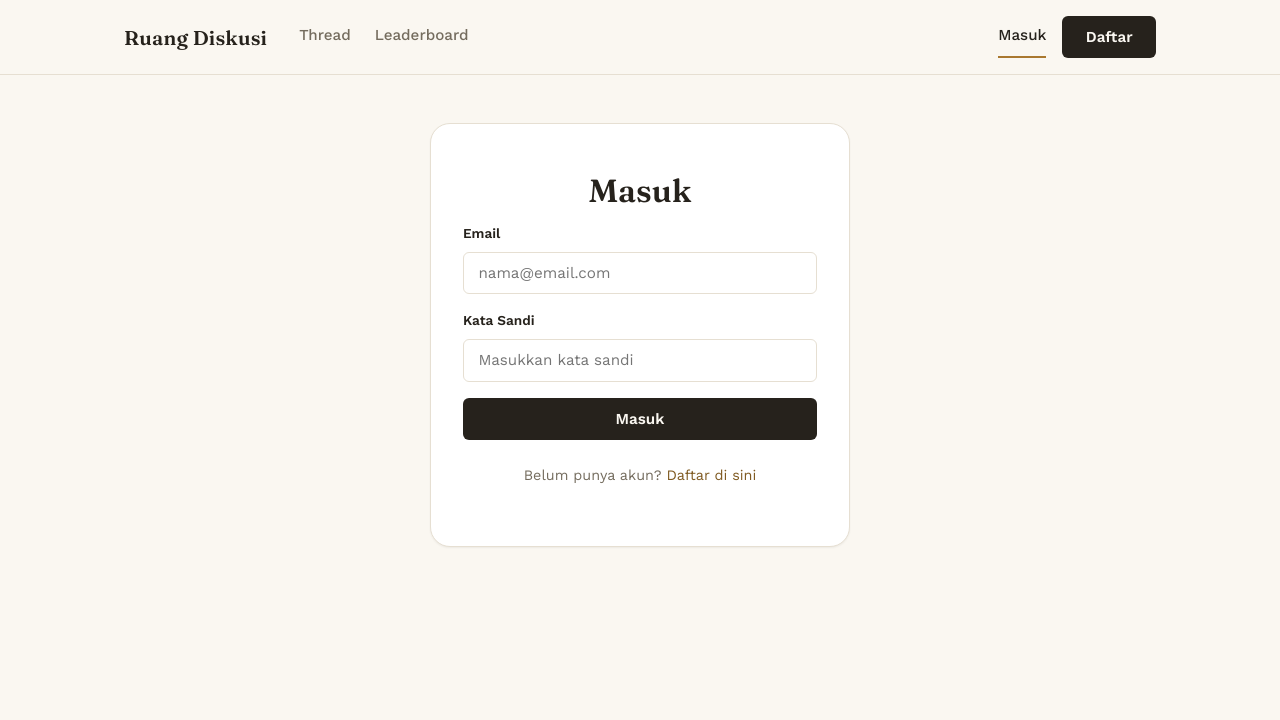
Alur Login › should show an error message and stay on /login when credentials are rejected
The image size is (1280, 720).
Type "salah@mail.com" into the field with id "login-email" at [640, 273], box [463,252,817,294]
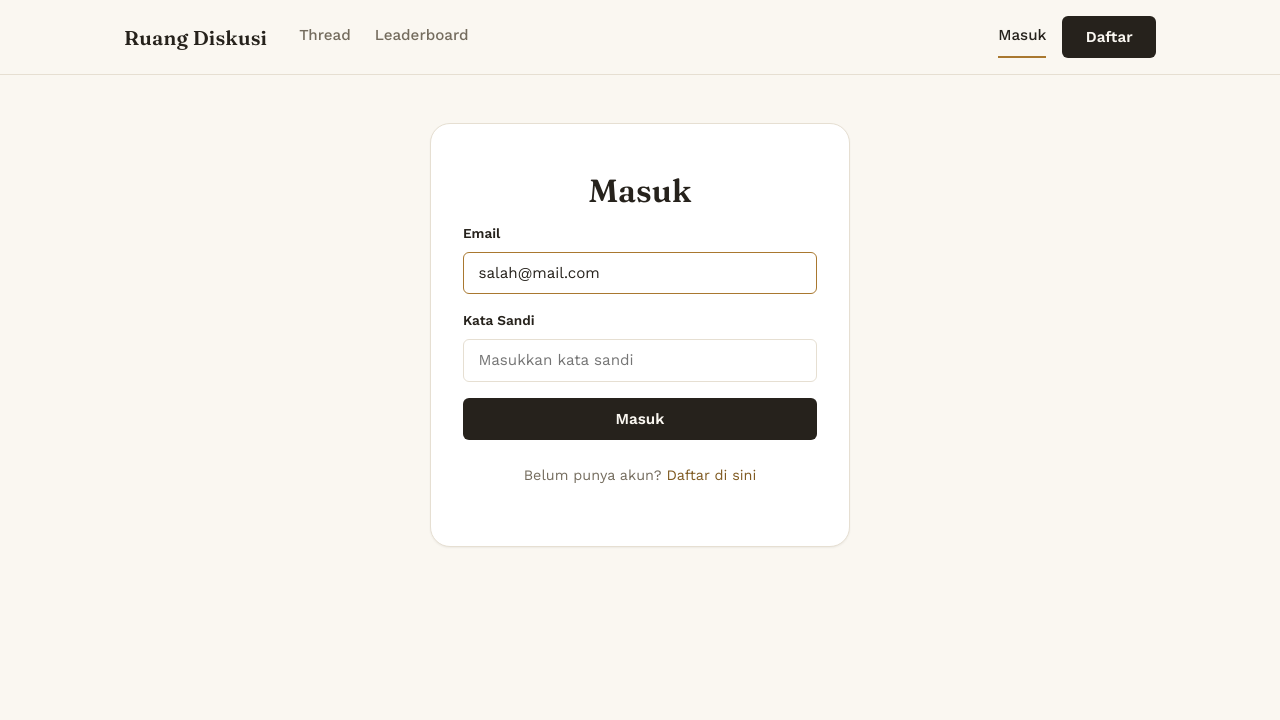
Type "passwordsalah" into the password field with id "login-password" at [640, 360], box [463,339,817,381]
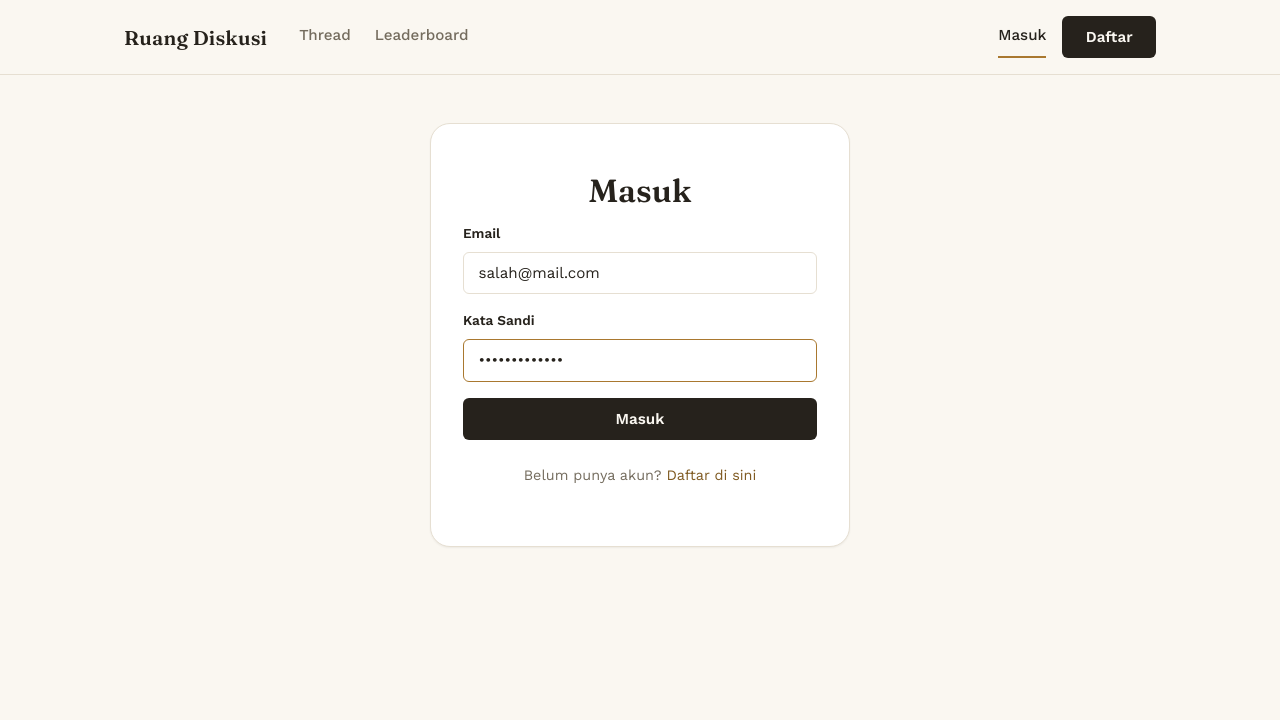
Click the button "Masuk" at [640, 419], box [463,398,817,440]
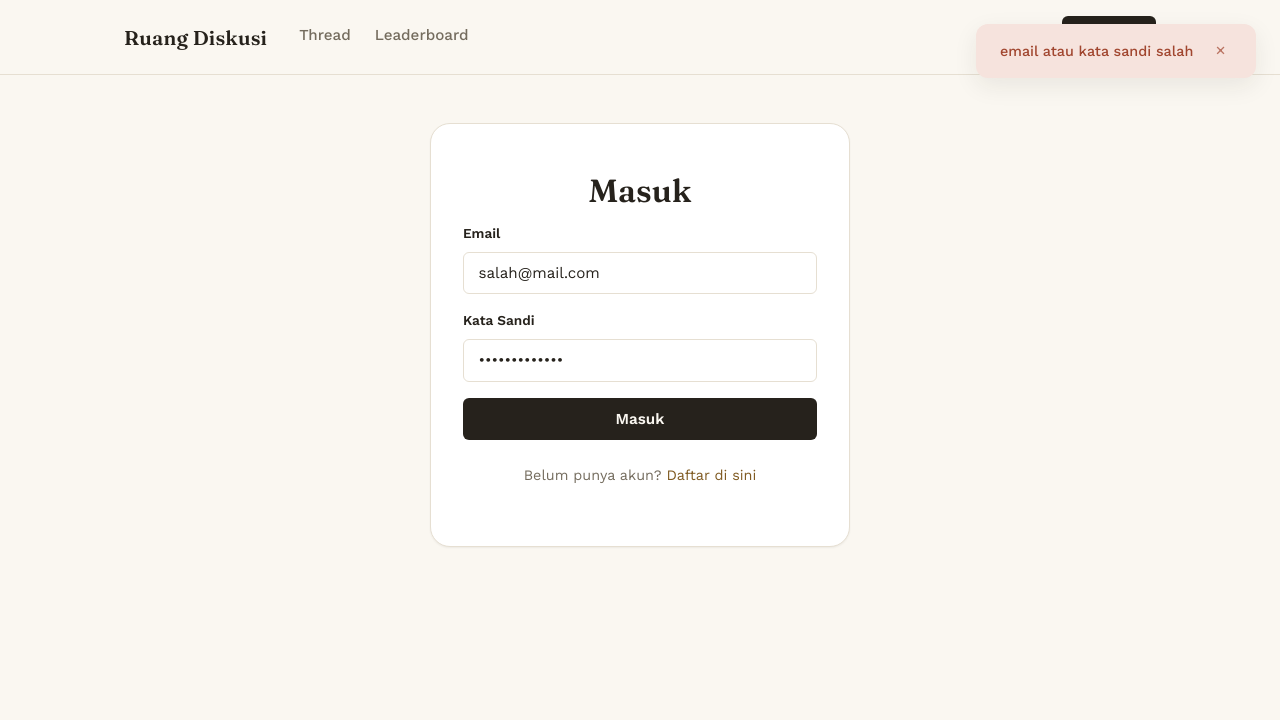
Expected: the text "email atau kata sandi salah" is shown, [1000,40,1193,62]
